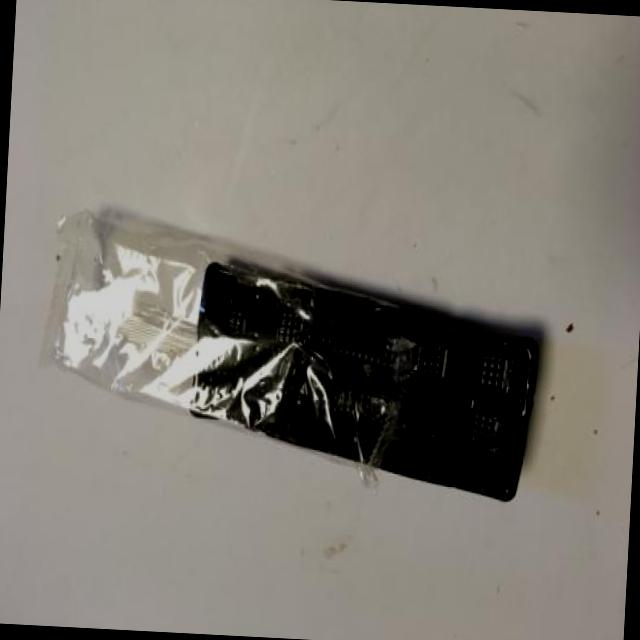Trash: (34, 208, 547, 508)
